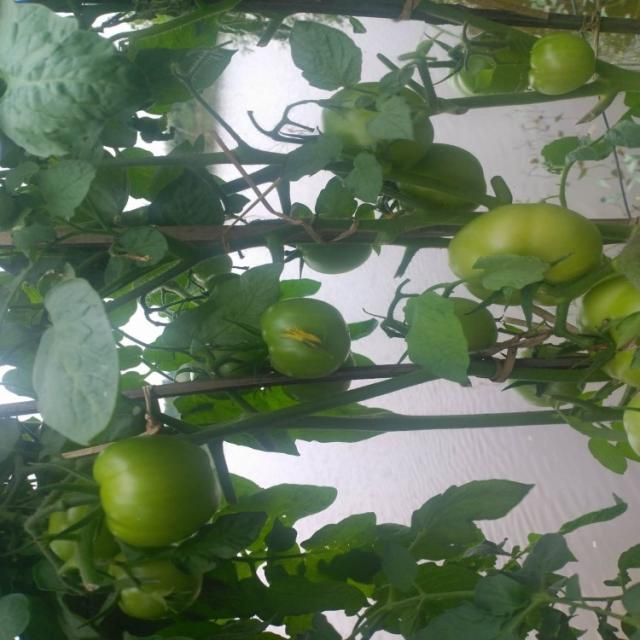tomato: (97, 432, 222, 549), (453, 191, 588, 289), (261, 292, 355, 379), (107, 553, 208, 625), (581, 264, 640, 387), (320, 82, 418, 153), (528, 26, 609, 104), (455, 26, 524, 97), (47, 490, 100, 571)
